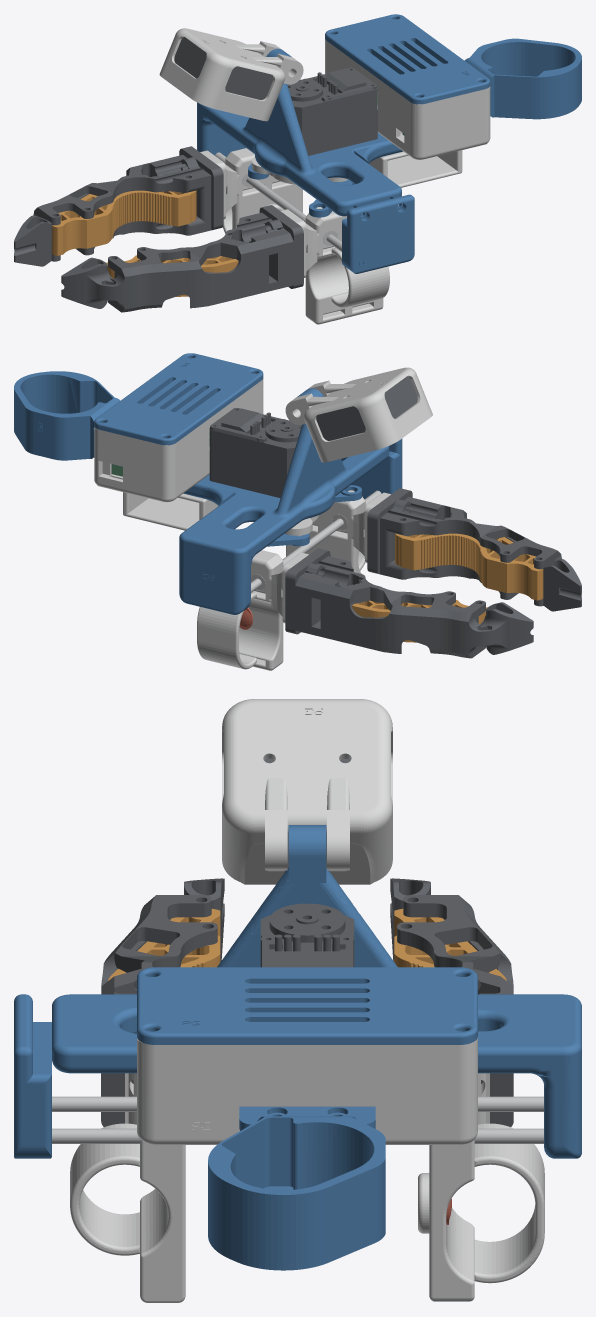
File: para-umi_right_open-enpire.glb
The picture shows the model from 3 angles, top to bottom: view 1: azimuth 30°, elevation 25°; view 2: azimuth 150°, elevation 25°; view 3: azimuth 270°, elevation 25°; orthographic projection. The views are drawn at different scales.
Visible parts, largest first — view 1: tip_thumb, main_support, tip_index, electronics_lid, controller_support, electronics_box, camera_mount, servo_sts3215, thumb_link, tip_index_1, main_support_cover_plate, index_link (+4 smaller); view 2: main_support, tip_index, tip_thumb, electronics_lid, electronics_box, controller_support, camera_mount, index_link, servo_sts3215, tip_thumb_1, thumb_link, hand_support_base (+4 smaller); view 3: electronics_box, camera_mount, electronics_lid, controller_support, main_support, index_link, thumb_link, tip_index, tip_thumb, main_support_cover_plate, servo_sts3215, rod_-8 (+3 smaller).
Part boxes in pixels (<box>): tip_thumb: <box>61,205,303,312</box>; main_support: <box>197,48,402,216</box>; tip_index: <box>14,146,223,266</box>; electronics_lid: <box>325,14,490,104</box>; controller_support: <box>464,38,581,119</box>; electronics_box: <box>325,39,490,159</box>; camera_mount: <box>159,28,303,121</box>; servo_sts3215: <box>287,67,377,155</box>; thumb_link: <box>280,207,389,324</box>; tip_index_1: <box>52,190,196,255</box>; main_support_cover_plate: <box>342,194,414,273</box>; index_link: <box>200,148,302,233</box>; main_support: <box>179,388,389,614</box>; tip_index: <box>285,548,533,658</box>; tip_thumb: <box>367,488,581,611</box>; electronics_lid: <box>94,353,263,445</box>; electronics_box: <box>94,379,263,502</box>; controller_support: <box>14,371,120,460</box>; camera_mount: <box>285,367,432,462</box>; index_link: <box>197,550,308,670</box>; servo_sts3215: <box>209,408,301,497</box>; tip_thumb_1: <box>395,533,543,600</box>; thumb_link: <box>286,490,390,577</box>; hand_support_base: <box>97,485,217,530</box>; electronics_box: <box>137,1037,477,1144</box>; camera_mount: <box>222,699,392,884</box>; electronics_lid: <box>137,967,477,1044</box>; controller_support: <box>208,1106,385,1270</box>; main_support: <box>52,825,581,1158</box>; index_link: <box>418,1073,544,1301</box>; thumb_link: <box>70,1073,185,1302</box>; tip_index: <box>390,878,513,1126</box>; tip_thumb: <box>101,878,224,1126</box>; main_support_cover_plate: <box>14,994,51,1158</box>; servo_sts3215: <box>260,903,354,967</box>; rod_-8: <box>52,1128,543,1143</box>.
Size of the model in its own units: 0.2926 by 0.1406 by 0.15.
